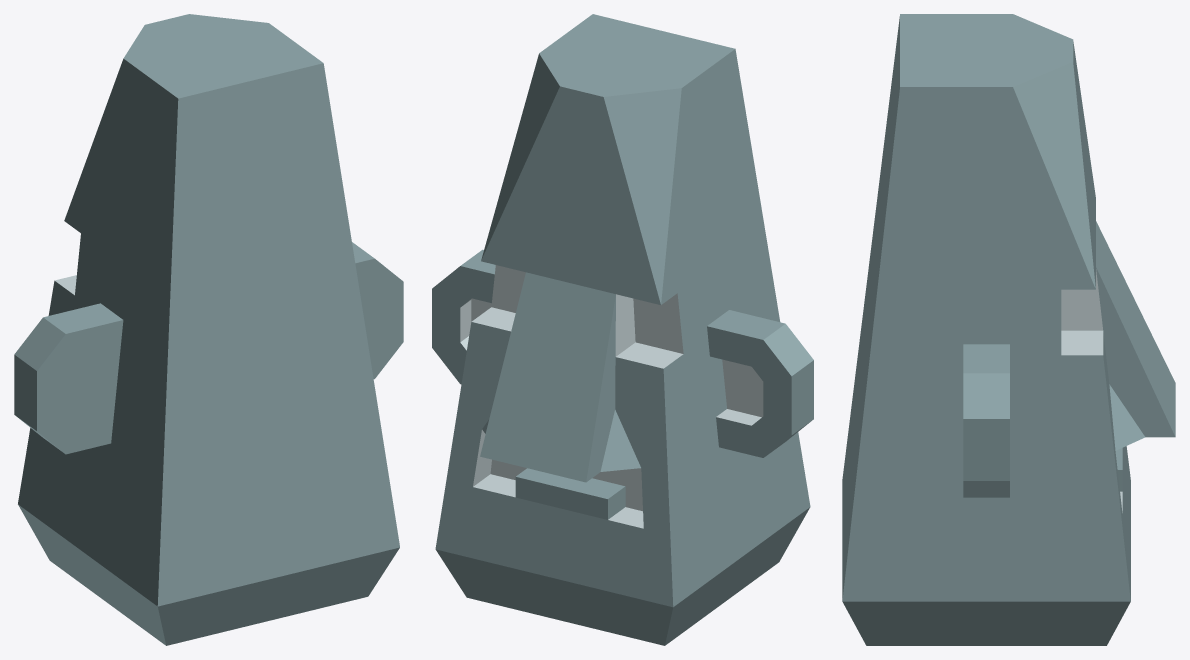
File: statue_head.glb
3 renders of one model, left to right at view 1: azimuth 30°, elevation 25°; view 2: azimuth 150°, elevation 25°; view 3: azimuth 270°, elevation 25°, orthographic. The views are drawn at different scales.
Visible parts, largest first — view 1: statue_head; view 2: statue_head; view 3: statue_head.
Part boxes in pixels (x1,y1,x2,y2): statue_head: [14, 14, 403, 645]; statue_head: [432, 14, 813, 645]; statue_head: [842, 14, 1175, 645].
Size of the model in its own units: 0.8433 by 1.16 by 0.644.
